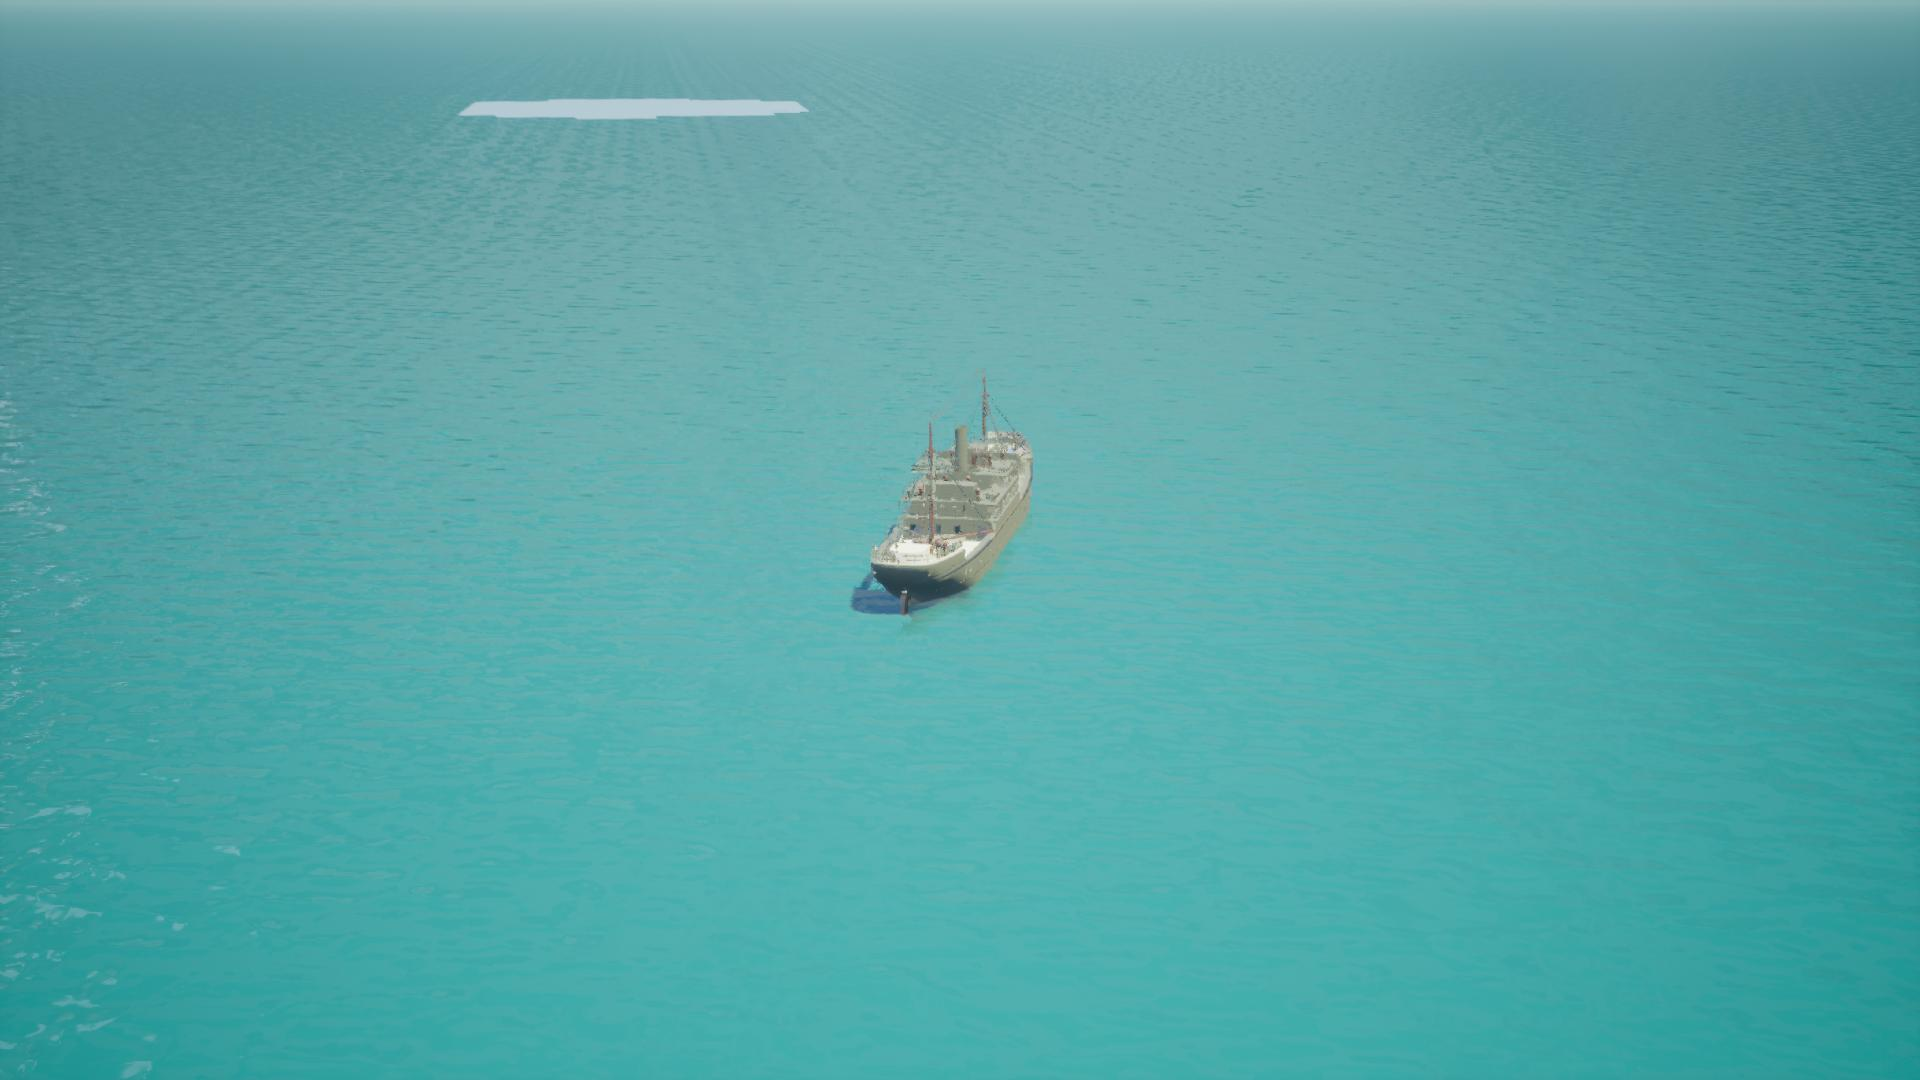Fishing Boat: (864, 372, 1034, 615)
